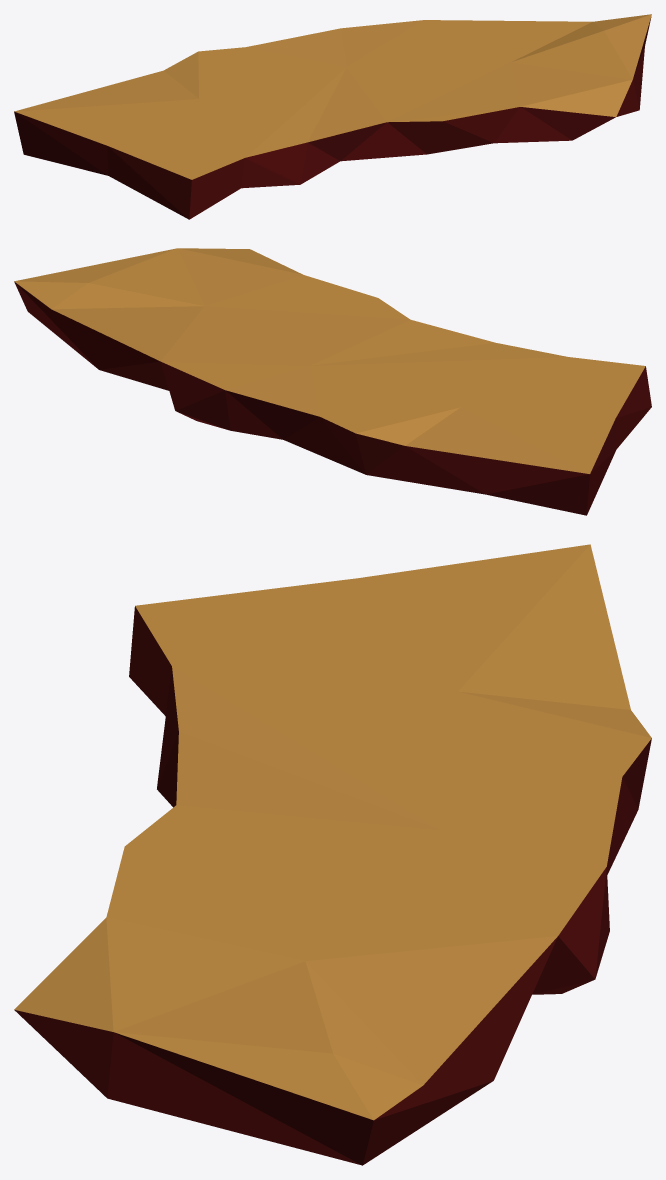
Rendered from modPlat_Large_Plat_Thin_modelled.fbx.
3 views of the same model, one above another, from view 1: azimuth 30°, elevation 25°; view 2: azimuth 150°, elevation 25°; view 3: azimuth 270°, elevation 25° (orthographic). The views are drawn at different scales.
Visible parts, largest first — view 1: modPlat_Large_Plat_Thin_modelled; view 2: modPlat_Large_Plat_Thin_modelled; view 3: modPlat_Large_Plat_Thin_modelled.
Boxes of the visible parts, x1,y1,x2,y2 form: modPlat_Large_Plat_Thin_modelled: (14, 14, 651, 219); modPlat_Large_Plat_Thin_modelled: (14, 248, 651, 515); modPlat_Large_Plat_Thin_modelled: (14, 544, 651, 1165).
Bounding box in the file's own units: 210 × 15.95 × 100.
